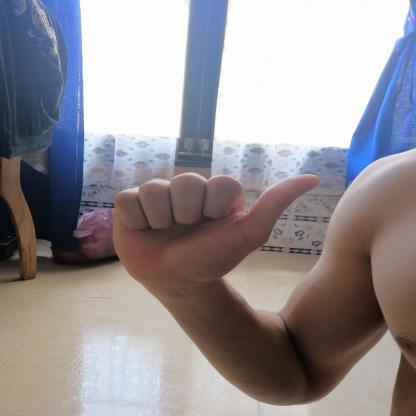DAD: (99, 157, 331, 300)
